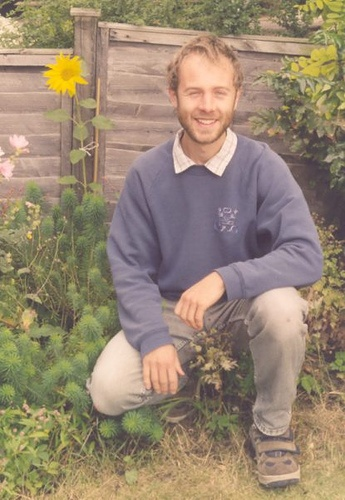head: (167, 35, 244, 143)
person: (83, 27, 328, 496)
